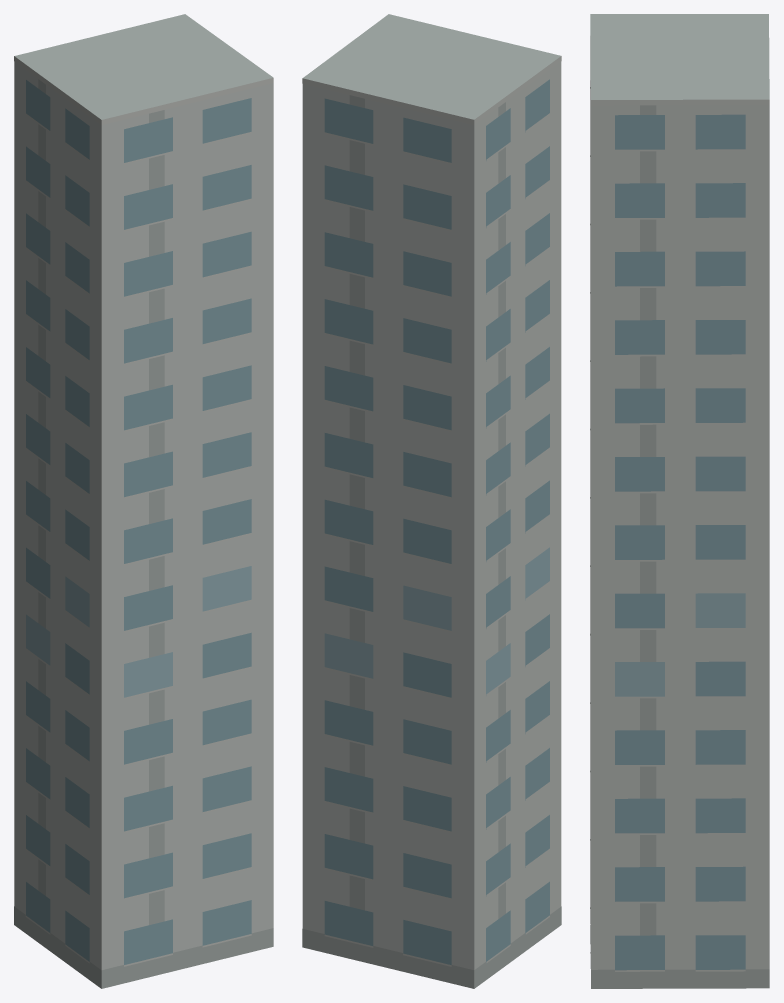
The model's file is survey-upis-32929899.glb.
3 views of the same model, side by side, from view 1: azimuth 30°, elevation 25°; view 2: azimuth 150°, elevation 25°; view 3: azimuth 270°, elevation 25° (orthographic). The views are drawn at different scales.
Parts seen in each view (by area): view 1: survey-upis-32929899.tmp; view 2: survey-upis-32929899.tmp; view 3: survey-upis-32929899.tmp.
Boxes of the visible parts, x1,y1,x2,y2 form: survey-upis-32929899.tmp: (14,14,273,988); survey-upis-32929899.tmp: (302,14,561,988); survey-upis-32929899.tmp: (590,14,769,988).
Bounding box in the file's own units: 8.25 × 39.65 × 7.27.
